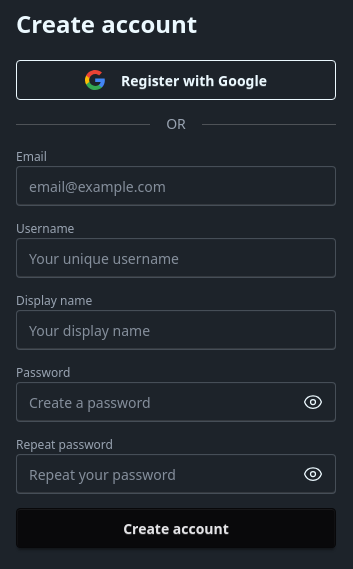
Test: RegisterPage › displays server error when register rejects
This screenshot has width=353, height=569.
Type "a@b.com" into the field with placeholder "email@example.com" at (176, 186), box [16,166,336,206]
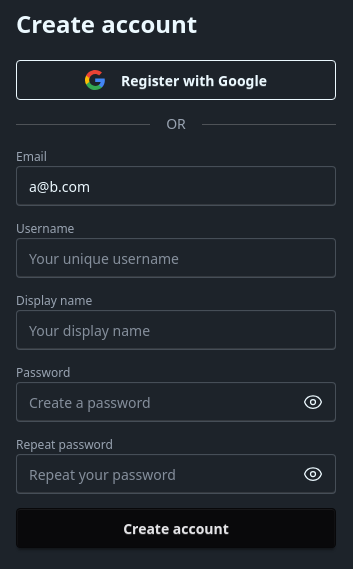
Type "abc" into the field with placeholder "Your unique username" at (176, 258), box [16,238,336,278]
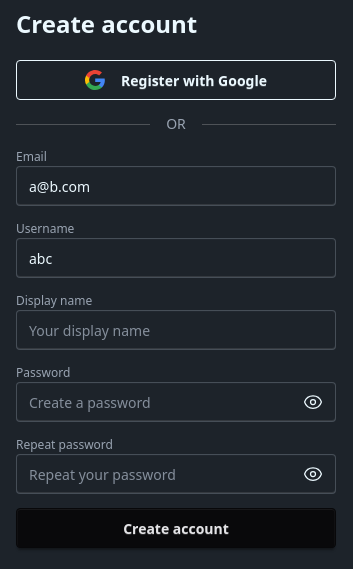
Type "ABC" into the field with placeholder "Your display name" at (176, 330), box [16,310,336,350]
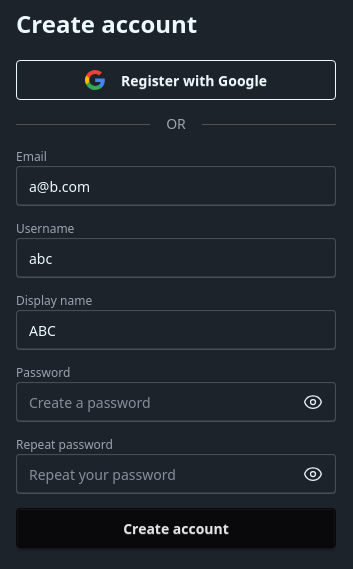
Type "longpass" into the password field with placeholder "Create a password" at (176, 402), box [16,382,336,422]
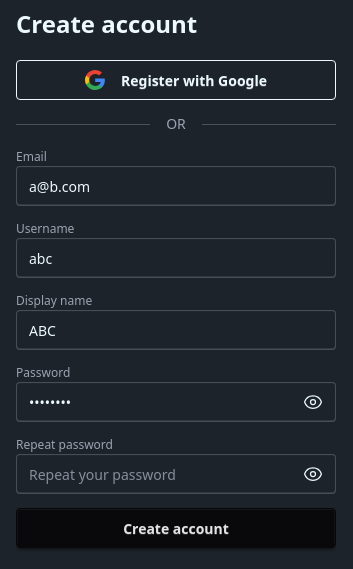
Type "longpass" into the password field with placeholder "Repeat your password" at (176, 474), box [16,454,336,494]
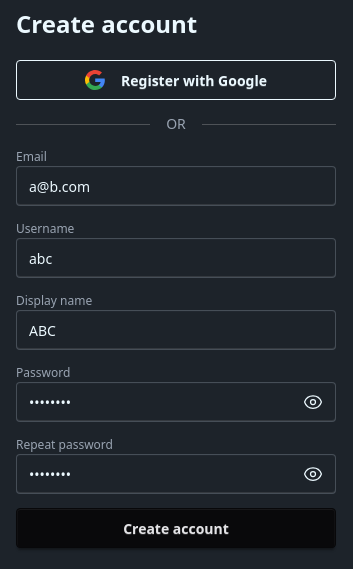
Click the button "Create account" at (176, 528), box [16,508,336,548]
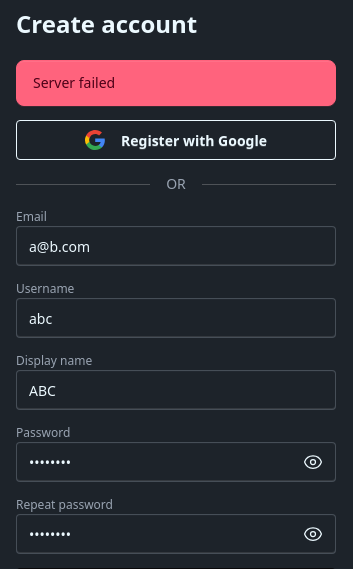
Result: the text "Server failed" is shown at [33,73,115,93]
